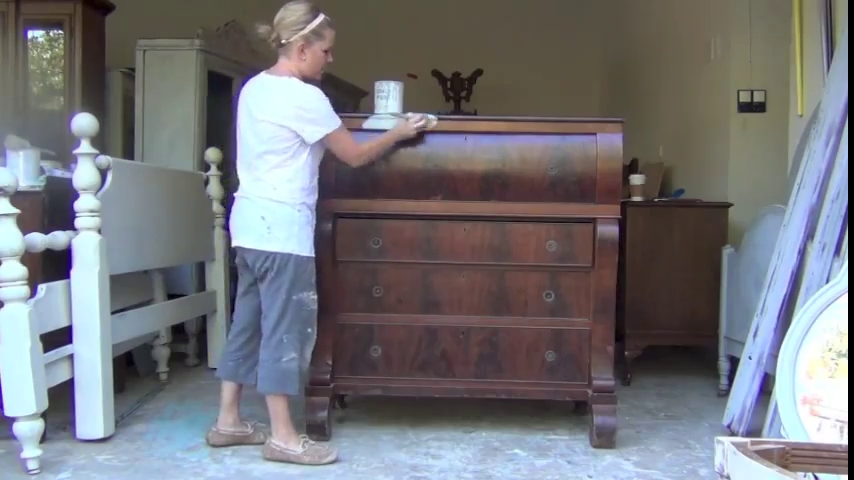person: (205, 1, 428, 465)
